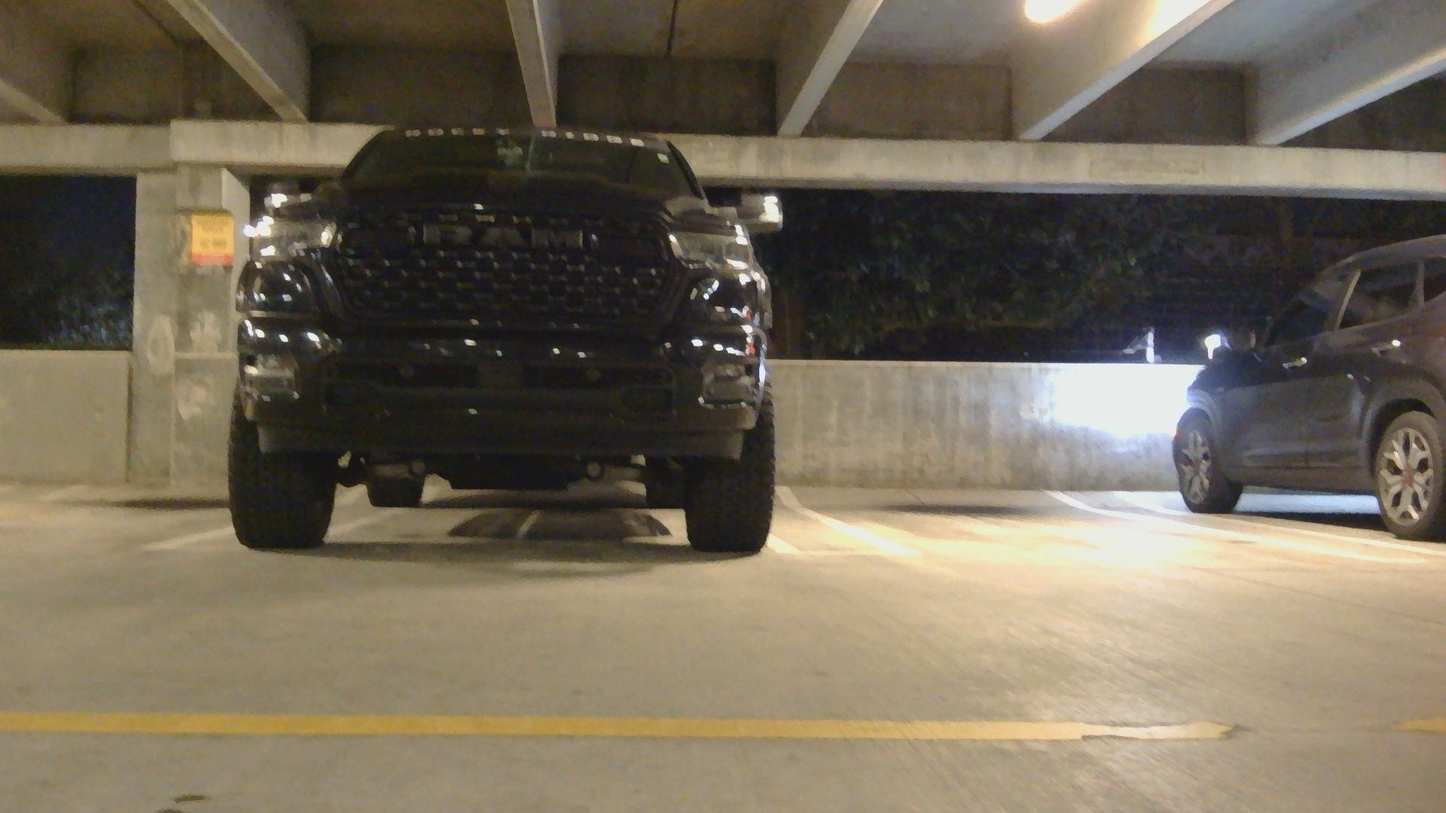empty_spot: (775, 422, 1435, 561)
occupied_spot: (203, 126, 802, 557), (1169, 229, 1446, 548)
